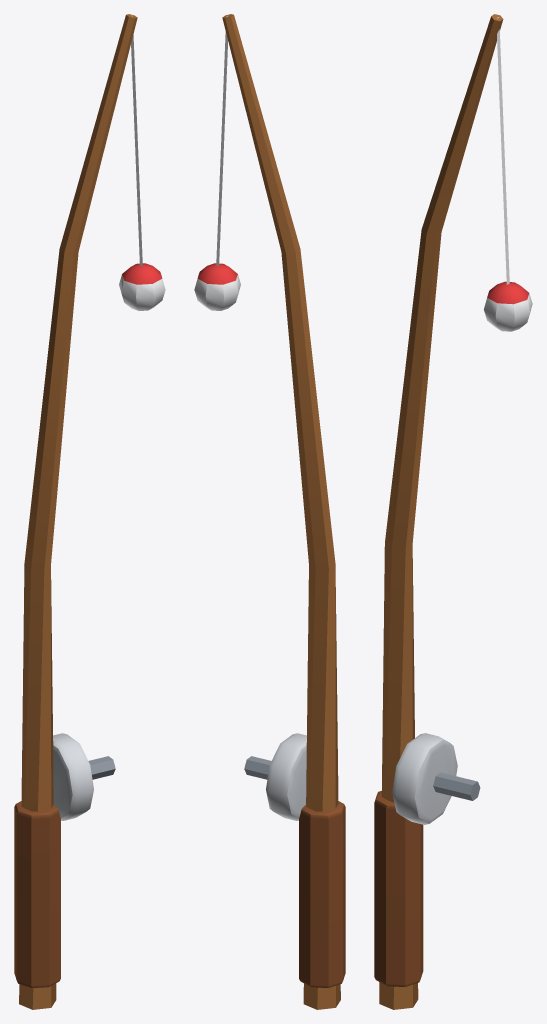
File: FishingRod.fbx
The picture shows the model from 3 angles, left to right: view 1: azimuth 30°, elevation 25°; view 2: azimuth 150°, elevation 25°; view 3: azimuth 330°, elevation 25°; orthographic projection. The views are drawn at different scales.
Visible parts, largest first — view 1: FishingRod; view 2: FishingRod; view 3: FishingRod.
Part boxes in pixels (bbox=[...]): FishingRod: bbox=[14, 14, 165, 1009]; FishingRod: bbox=[194, 14, 345, 1009]; FishingRod: bbox=[374, 14, 532, 1009].
Size of the model in its own units: 0.7 by 4.41 by 0.36.
1 material, 1 textured.
